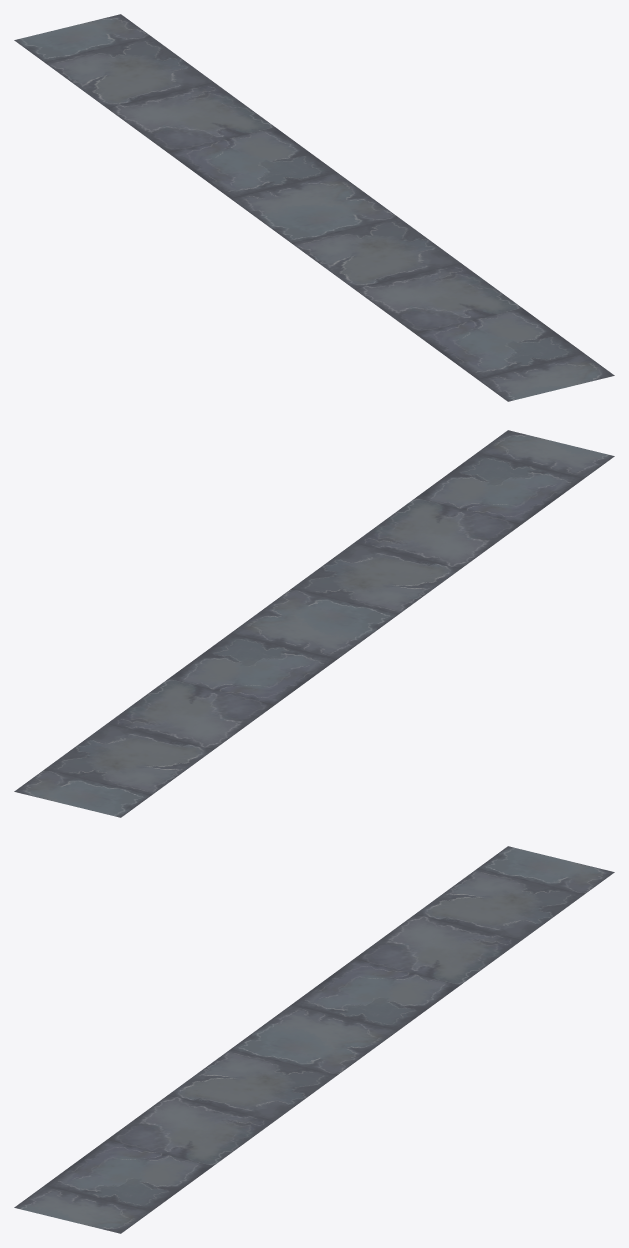
Rendered from Castle Ground X Bright 1x8.fbx.
The picture shows the model from 3 angles, top to bottom: view 1: azimuth 30°, elevation 25°; view 2: azimuth 150°, elevation 25°; view 3: azimuth 330°, elevation 25°; orthographic projection.
Parts seen in each view (by area): view 1: Castle Ground X Bright 1x8; view 2: Castle Ground X Bright 1x8; view 3: Castle Ground X Bright 1x8.
Part boxes in pixels (x1=…): Castle Ground X Bright 1x8: x1=14, y1=14, x2=614, y2=401; Castle Ground X Bright 1x8: x1=14, y1=430, x2=614, y2=817; Castle Ground X Bright 1x8: x1=14, y1=846, x2=614, y2=1233.
Size of the model in its own units: 1 by 9.54e-07 by 8.
